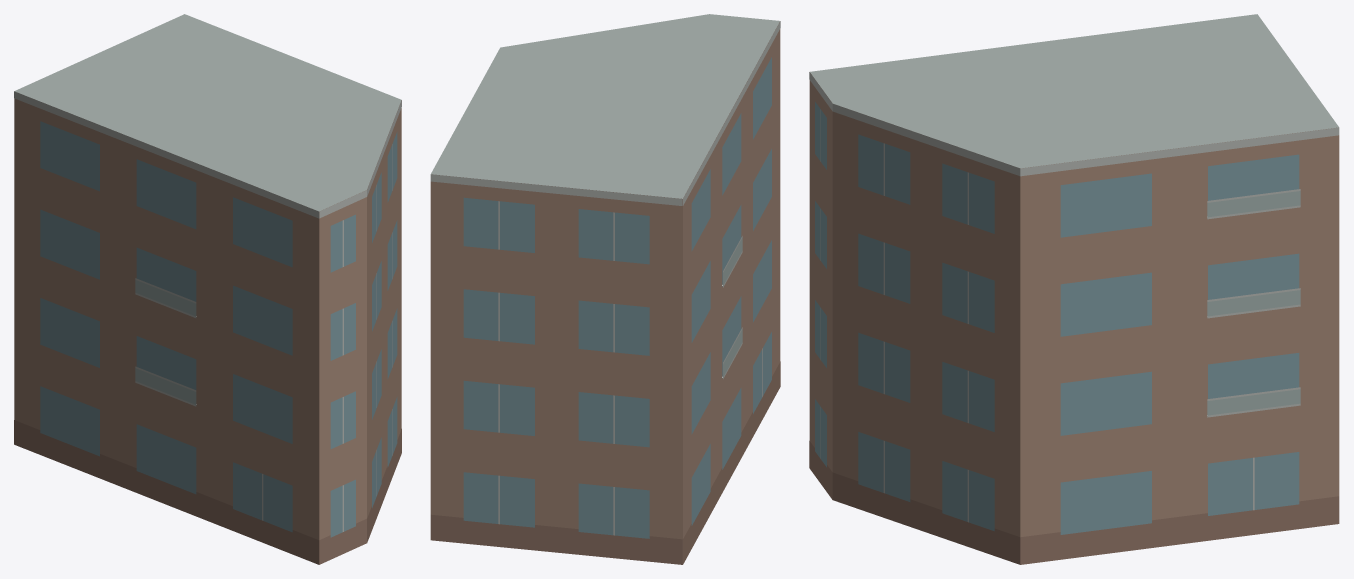
The model's file is residential-8e42cd6b-70f0-4b15-8ad0-6b8462c184a7.glb.
The picture shows the model from 3 angles, left to right: view 1: azimuth 30°, elevation 25°; view 2: azimuth 150°, elevation 25°; view 3: azimuth 270°, elevation 25°; orthographic projection. The views are drawn at different scales.
Visible parts, largest first — view 1: residential-8e42cd6b-70f0-4b15-8ad0-6b8462c184a7.tmp; view 2: residential-8e42cd6b-70f0-4b15-8ad0-6b8462c184a7.tmp; view 3: residential-8e42cd6b-70f0-4b15-8ad0-6b8462c184a7.tmp.
Part boxes in pixels (left/top/right/bottom): residential-8e42cd6b-70f0-4b15-8ad0-6b8462c184a7.tmp: left=14, top=14, right=401, bottom=564; residential-8e42cd6b-70f0-4b15-8ad0-6b8462c184a7.tmp: left=430, top=14, right=780, bottom=564; residential-8e42cd6b-70f0-4b15-8ad0-6b8462c184a7.tmp: left=809, top=14, right=1339, bottom=564.
Size of the model in its own units: 10.2 by 12.2 by 14.78.
